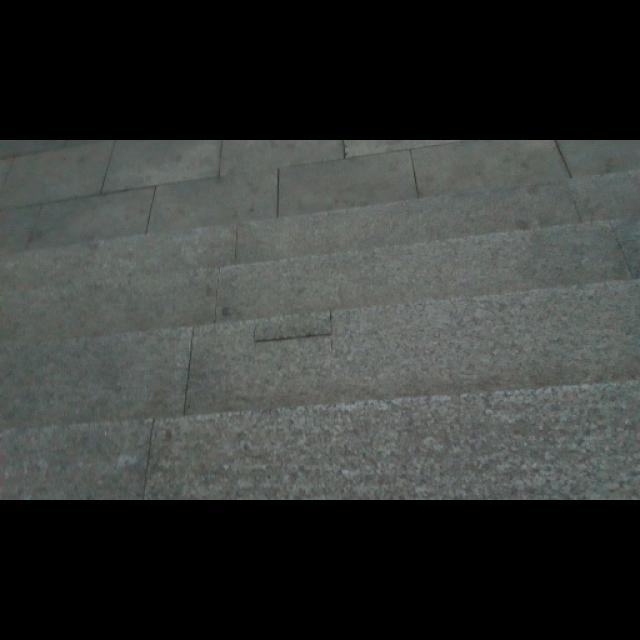stair: (11, 217, 632, 476)
